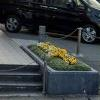stairs: (0, 60, 42, 96)
